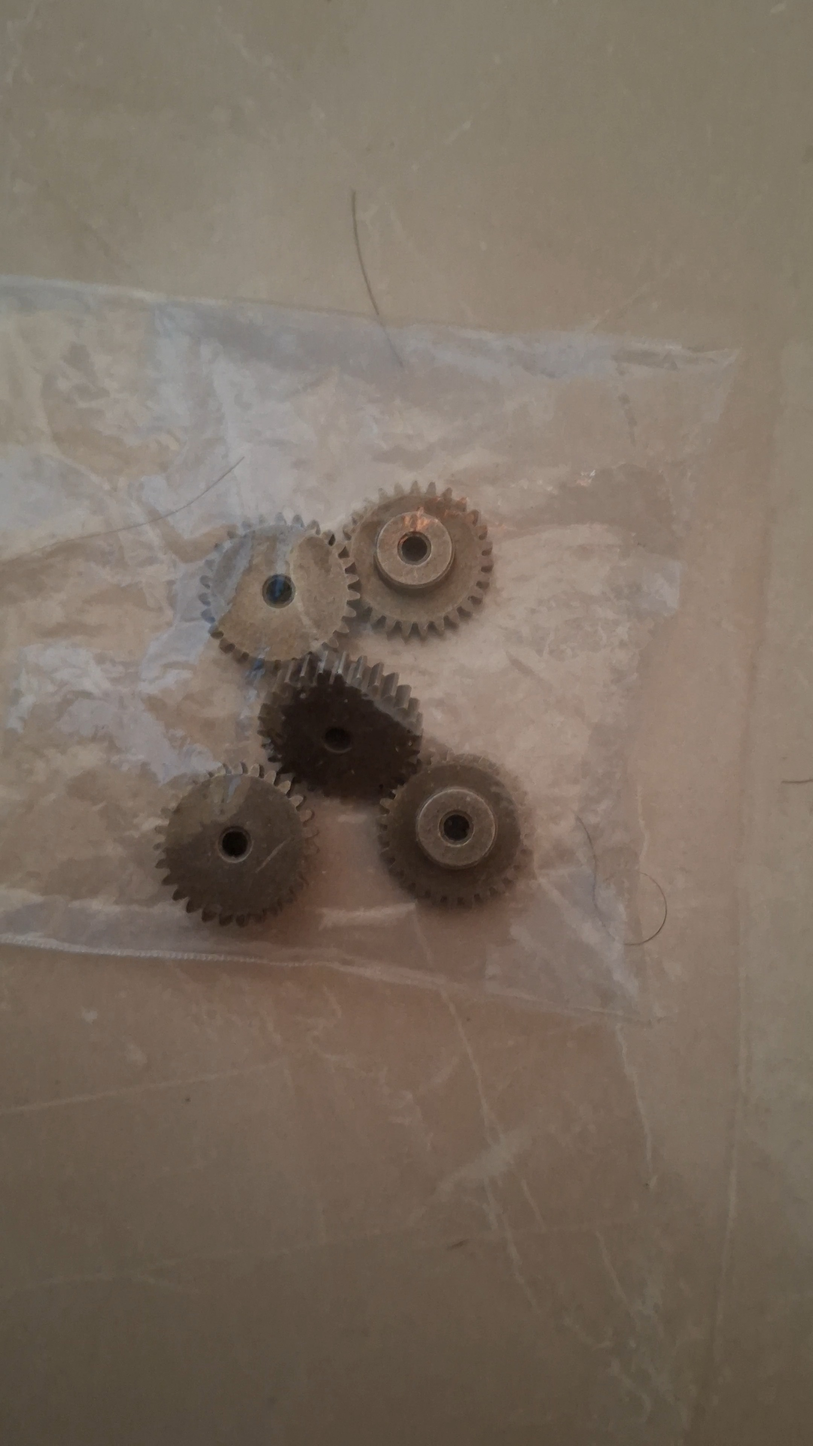spur gear: (156, 765, 314, 924), (200, 514, 358, 664), (260, 652, 421, 798), (345, 482, 492, 637), (381, 755, 524, 904)
